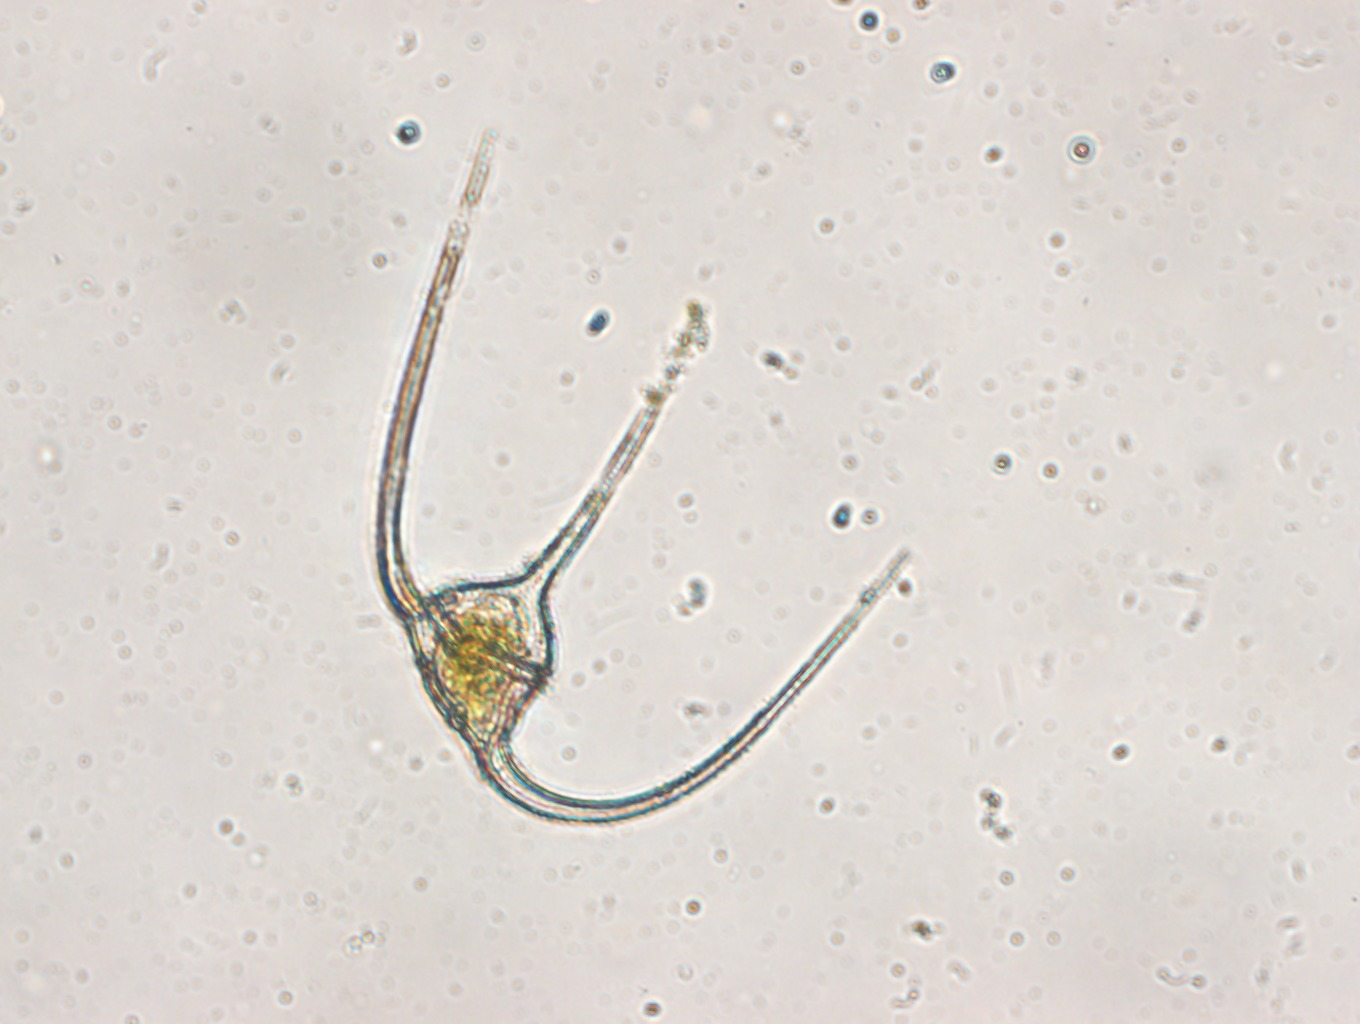ceratium trichoceros: (362, 102, 918, 837)
